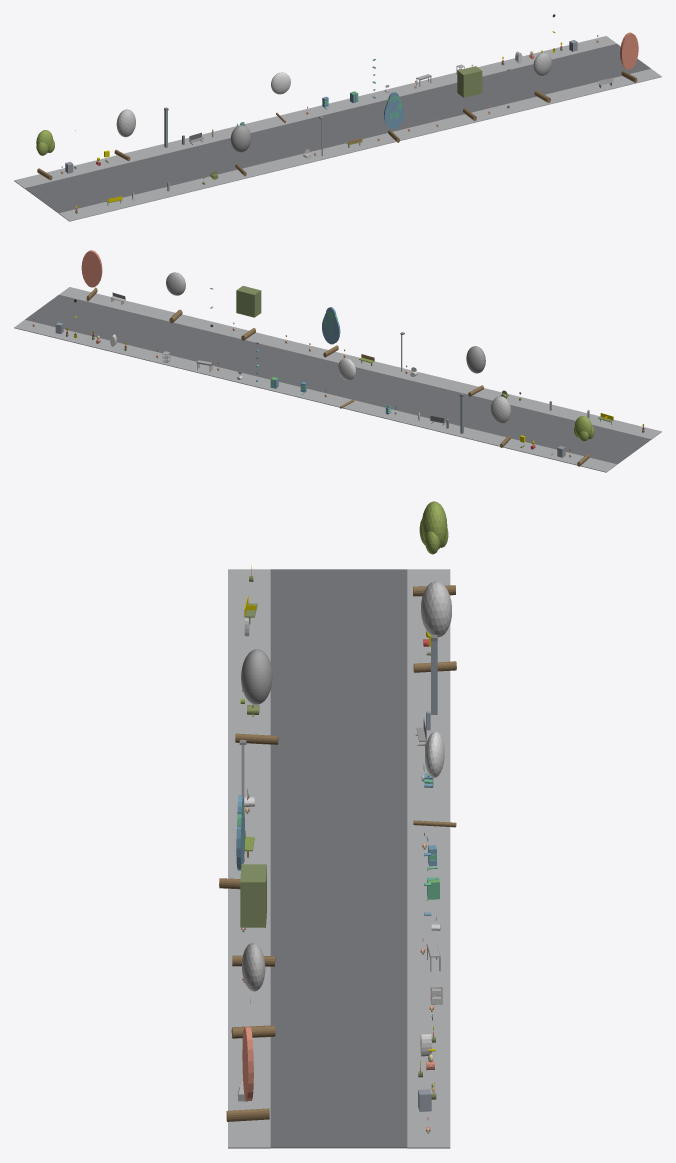
The picture shows the model from 3 angles, top to bottom: view 1: azimuth 30°, elevation 25°; view 2: azimuth 150°, elevation 25°; view 3: azimuth 270°, elevation 25°; orthographic projection. The views are drawn at different scales.
Visible parts, largest first — view 1: road_slab, sidewalk_left, sidewalk_right, inst_0023, inst_0025, inst_0022, inst_0020, inst_0019, inst_0018, inst_0024, inst_0021; view 2: road_slab, sidewalk_right, sidewalk_left, inst_0023, inst_0025, inst_0022, inst_0019, inst_0020, inst_0018, inst_0024, inst_0021; view 3: road_slab, sidewalk_right, sidewalk_left, inst_0023, inst_0020, inst_0019, inst_0018, inst_0024, inst_0025, inst_0021.
Part boxes in pixels (<box>): road_slab: <box>25,44,650,213</box>; sidewalk_left: <box>59,69,661,221</box>; sidewalk_right: <box>14,36,616,188</box>; inst_0023: <box>457,66,482,120</box>; inst_0025: <box>620,32,638,82</box>; inst_0022: <box>384,92,404,142</box>; inst_0020: <box>230,125,251,176</box>; inst_0019: <box>114,109,135,161</box>; inst_0018: <box>36,130,54,180</box>; inst_0024: <box>533,52,551,102</box>; inst_0021: <box>271,72,290,122</box>; road_slab: <box>25,295,651,464</box>; sidewalk_right: <box>14,320,616,472</box>; sidewalk_left: <box>59,287,661,439</box>; inst_0023: <box>236,286,261,340</box>; inst_0025: <box>81,250,102,301</box>; inst_0022: <box>322,307,340,357</box>; inst_0019: <box>490,396,511,447</box>; inst_0020: <box>466,346,485,396</box>; inst_0018: <box>574,416,594,466</box>; inst_0024: <box>166,272,185,323</box>; inst_0021: <box>338,358,355,408</box>; road_slab: <box>270,569,407,1148</box>; sidewalk_right: <box>407,569,450,1148</box>; sidewalk_left: <box>228,569,270,1148</box>; inst_0023: <box>232,864,275,966</box>; inst_0020: <box>235,649,278,744</box>; inst_0019: <box>413,581,456,672</box>; inst_0018: <box>413,501,455,596</box>; inst_0024: <box>231,943,275,1038</box>; inst_0025: <box>226,1026,269,1121</box>; inst_0021: <box>413,731,456,827</box>.
Bounding box in the file's own units: 80 × 6.08 × 13.9.
